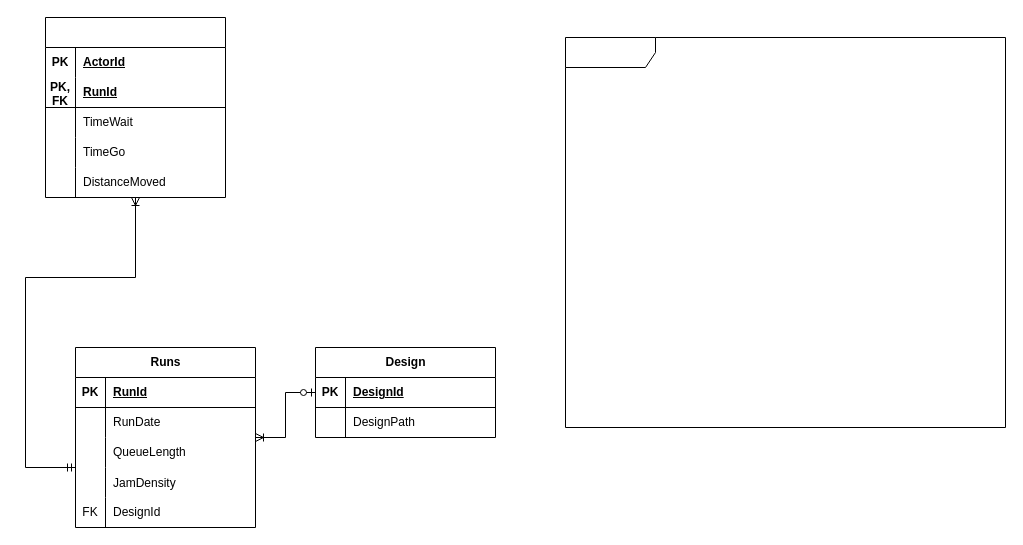
The diagram is 1023 pixels wide and 545 high, and some of its shapes have lost their labels. The shapes that lost their labels are listed below. From the top down, each one's box as (x1, y1, x2, y2) in pixels, then its label:
(44, 16, 226, 198): Actors
(564, 36, 1006, 428): Design JSON
